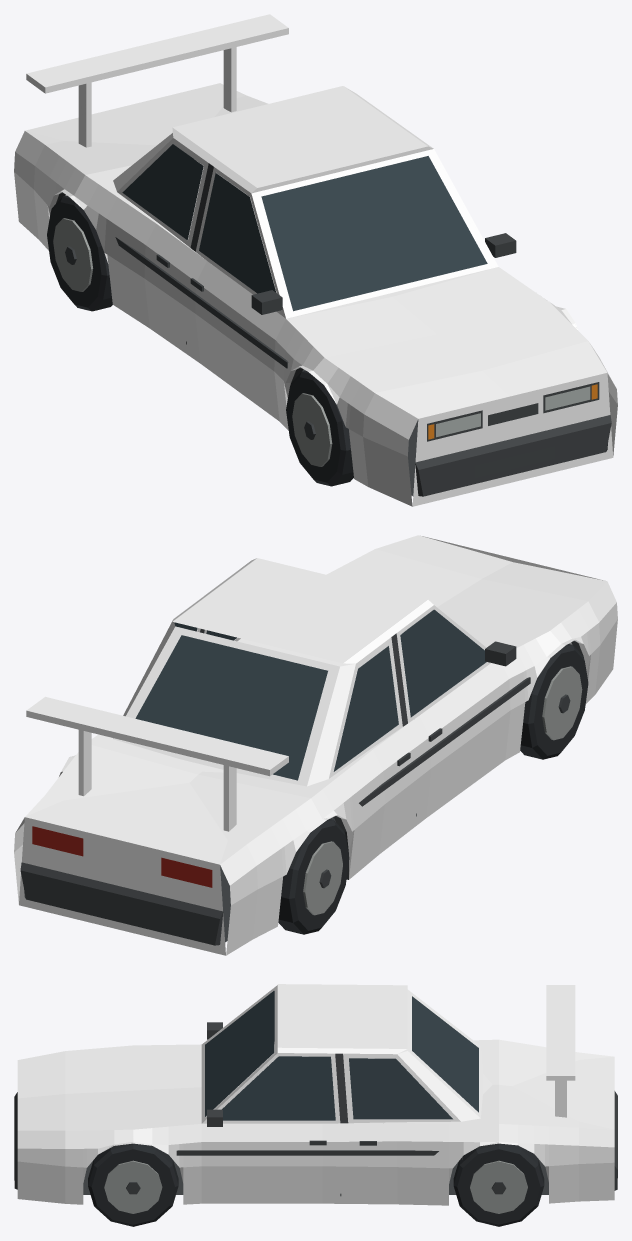
Rendered from varenna_lucciola_corrida.glb.
3 renders of one model, top to bottom at view 1: azimuth 30°, elevation 25°; view 2: azimuth 150°, elevation 25°; view 3: azimuth 270°, elevation 25°, orthographic. The views are drawn at different scales.
Parts seen in each view (by area): view 1: varenna_lucciola_corrida; view 2: varenna_lucciola_corrida; view 3: varenna_lucciola_corrida.
Boxes of the visible parts, x1=… form: varenna_lucciola_corrida: x1=14, y1=14, x2=617, y2=506; varenna_lucciola_corrida: x1=14, y1=535, x2=617, y2=955; varenna_lucciola_corrida: x1=14, y1=984, x2=617, y2=1226.
Bounding box in the file's own units: 1.73 × 1.39 × 4.59.
8 materials, 1 textured.
